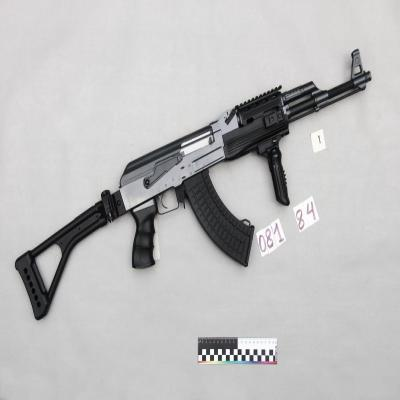weapon: (15, 51, 373, 320)
